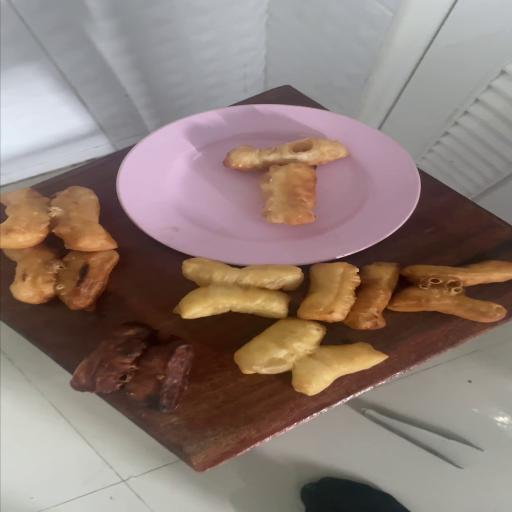street_burnt_defect: (70, 322, 192, 412), (387, 261, 512, 322), (56, 251, 118, 310)
street_golden_good: (0, 0, 400, 183), (114, 0, 396, 238), (174, 258, 303, 322), (0, 183, 118, 252), (292, 343, 387, 395), (265, 164, 315, 220)
